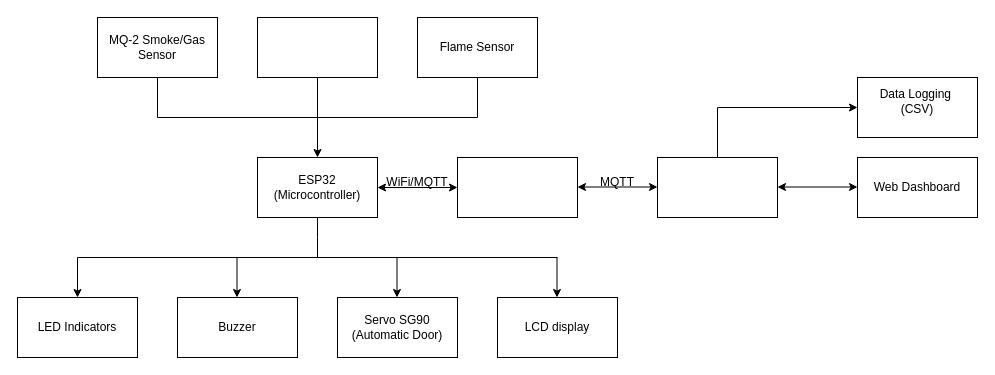
This 995x375 diagram has some shape labels left out. Each missing label, with the box of its shape:
LM35 Temperature Sensor: (256, 16, 378, 78)
MQTT Broker: (456, 156, 578, 218)
Node-RED: (656, 156, 778, 218)
